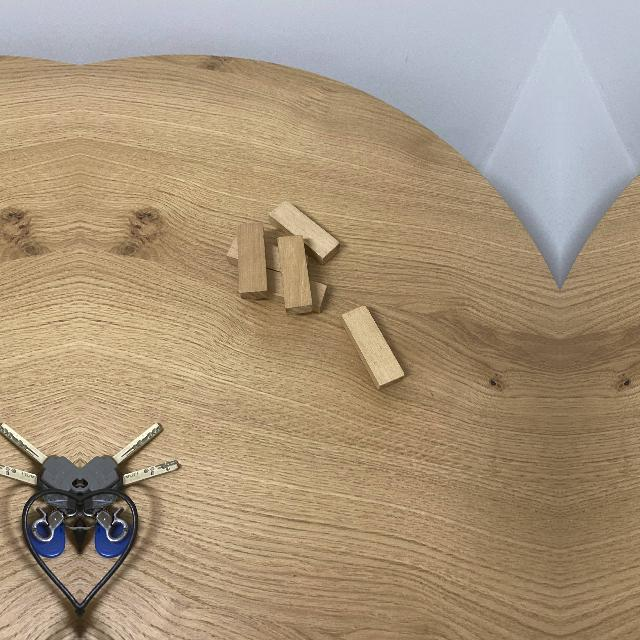jenga: (339, 304, 406, 390), (269, 200, 341, 264), (226, 236, 308, 284), (278, 235, 313, 317), (268, 268, 328, 313), (238, 222, 268, 300)
